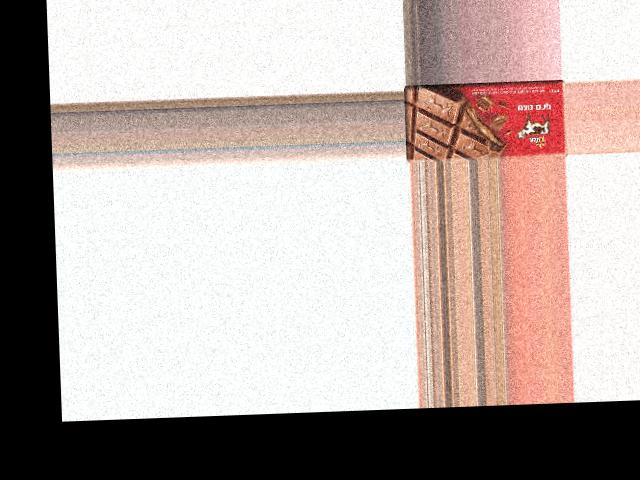chocolate: (406, 80, 568, 162)
